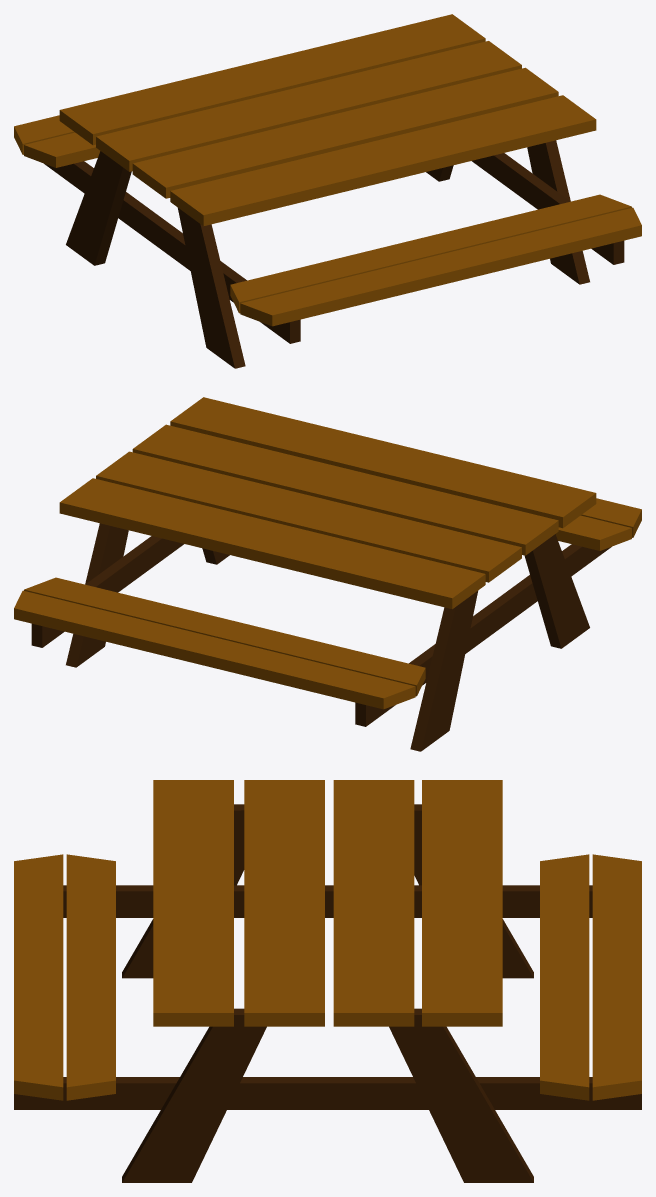
The model's file is picnic.fbx.
The picture shows the model from 3 angles, top to bottom: view 1: azimuth 30°, elevation 25°; view 2: azimuth 150°, elevation 25°; view 3: azimuth 270°, elevation 25°; orthographic projection. The views are drawn at different scales.
Visible parts, largest first — view 1: polySurface5, polySurface6, polySurface7, polySurface8, polySurface13, polySurface14, polySurface16, polySurface17, polySurface10, polySurface9, polySurface15, polySurface11 (+1 smaller); view 2: polySurface8, polySurface5, polySurface6, polySurface7, polySurface12, polySurface11, polySurface17, polySurface16, polySurface10, polySurface9, polySurface18, polySurface14 (+1 smaller); view 3: polySurface7, polySurface5, polySurface6, polySurface8, polySurface9, polySurface11, polySurface12, polySurface13, polySurface14, polySurface15, polySurface18, polySurface10 (+2 smaller).
Part boxes in pixels (x1,y1,x2,y2): polySurface5: (170,95,596,226); polySurface6: (132,67,558,198); polySurface7: (96,41,521,171); polySurface8: (59,14,485,145); polySurface13: (240,207,641,326); polySurface14: (230,194,631,313); polySurface16: (178,208,245,368); polySurface17: (66,151,131,265); polySurface10: (44,161,300,343); polySurface9: (472,153,624,264); polySurface15: (527,140,589,284); polySurface11: (24,132,100,167); polySurface8: (59,478,485,609); polySurface5: (170,397,596,528); polySurface6: (132,424,558,555); polySurface7: (96,451,521,582); polySurface12: (14,590,415,709); polySurface11: (24,577,425,696); polySurface17: (410,591,477,751); polySurface16: (524,534,589,648); polySurface10: (355,544,611,726); polySurface9: (31,536,183,647); polySurface18: (66,523,128,667); polySurface14: (555,515,631,550); polySurface7: (333,780,414,1026); polySurface5: (153,780,233,1026); polySurface6: (244,780,324,1026); polySurface8: (422,780,502,1026); polySurface9: (14,1077,641,1109); polySurface11: (540,854,589,1100); polySurface12: (592,854,641,1100); polySurface13: (14,854,63,1100); polySurface14: (66,854,115,1100); polySurface15: (122,1008,266,1182); polySurface18: (389,1008,533,1182); polySurface10: (63,885,592,917).
Bounding box in the file's own units: 17 × 6.15 × 19.36.
